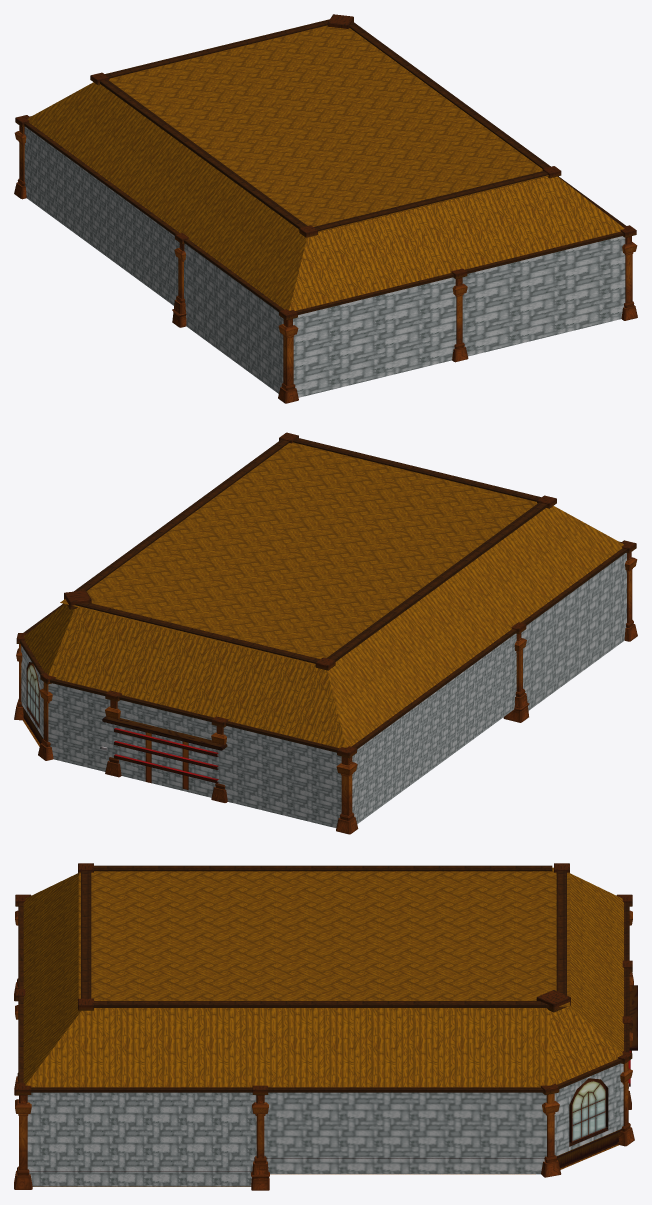
File: Dardos_Escenario_3.fbx
3 renders of one model, top to bottom at view 1: azimuth 30°, elevation 25°; view 2: azimuth 150°, elevation 25°; view 3: azimuth 270°, elevation 25°, orthographic. The views are drawn at different scales.
Parts seen in each view (by area): view 1: Plane.019, Plane.020, Plane.014, Plane.001, Plane.012, TopColumn.012, TopColumn.011, TopColumn.003, TopColumn.013, TopColumn.014, TopColumn.007, LShape_Column.002 (+4 smaller); view 2: Plane.019, Plane.020, Plane.002, Plane.001, Plane.012, TopColumn.012, TopColumn.011, TopColumn.013, TopColumn.014, TopColumn.009, TopColumn.007, PlayerSizeRef.006 (+5 smaller); view 3: Plane.019, Plane.020, Plane.004, Plane.016, TopColumn.012, TopColumn.011, Window_Wall, Plane.018, TopColumn.008, TopColumn.013, TopColumn.014, TopColumn.005 (+9 smaller).
Part boxes in pixels (box(x1,y1,x2,y2)): Plane.019: box(109, 21, 548, 232); Plane.020: box(27, 82, 624, 310); Plane.014: box(293, 236, 625, 397); Plane.001: box(24, 126, 179, 305); Plane.012: box(184, 243, 283, 393); TopColumn.012: box(100, 79, 307, 229); TopColumn.011: box(349, 21, 550, 168); TopColumn.003: box(295, 231, 623, 314); TopColumn.013: box(314, 171, 548, 232); TopColumn.014: box(105, 19, 329, 78); TopColumn.007: box(24, 122, 179, 235); LShape_Column.002: box(278, 336, 298, 403); Plane.019: box(60, 442, 537, 664); Plane.020: box(24, 506, 623, 748); Plane.002: box(48, 683, 341, 827); Plane.001: box(352, 633, 516, 823); Plane.012: box(521, 553, 626, 710); TopColumn.012: box(327, 502, 547, 661); TopColumn.011: box(74, 439, 289, 591); TopColumn.013: box(293, 437, 541, 501); TopColumn.014: box(75, 602, 319, 663); TopColumn.009: box(50, 679, 339, 752); TopColumn.007: box(351, 629, 516, 749); PlayerSizeRef.006: box(102, 716, 227, 750); Plane.019: box(78, 867, 569, 1006); Plane.020: box(23, 873, 623, 1087); Plane.004: box(264, 1092, 546, 1174); Plane.016: box(27, 1092, 256, 1186); TopColumn.012: box(94, 865, 552, 871); TopColumn.011: box(94, 1001, 549, 1007); Window_Wall: box(554, 1063, 623, 1156); Plane.018: box(569, 1078, 608, 1146); TopColumn.008: box(268, 1087, 543, 1092); TopColumn.013: box(81, 871, 91, 998); TopColumn.014: box(556, 871, 566, 995); TopColumn.005: box(31, 1087, 252, 1092).
Size of the model in its own units: 1837 by 688 by 2444.
